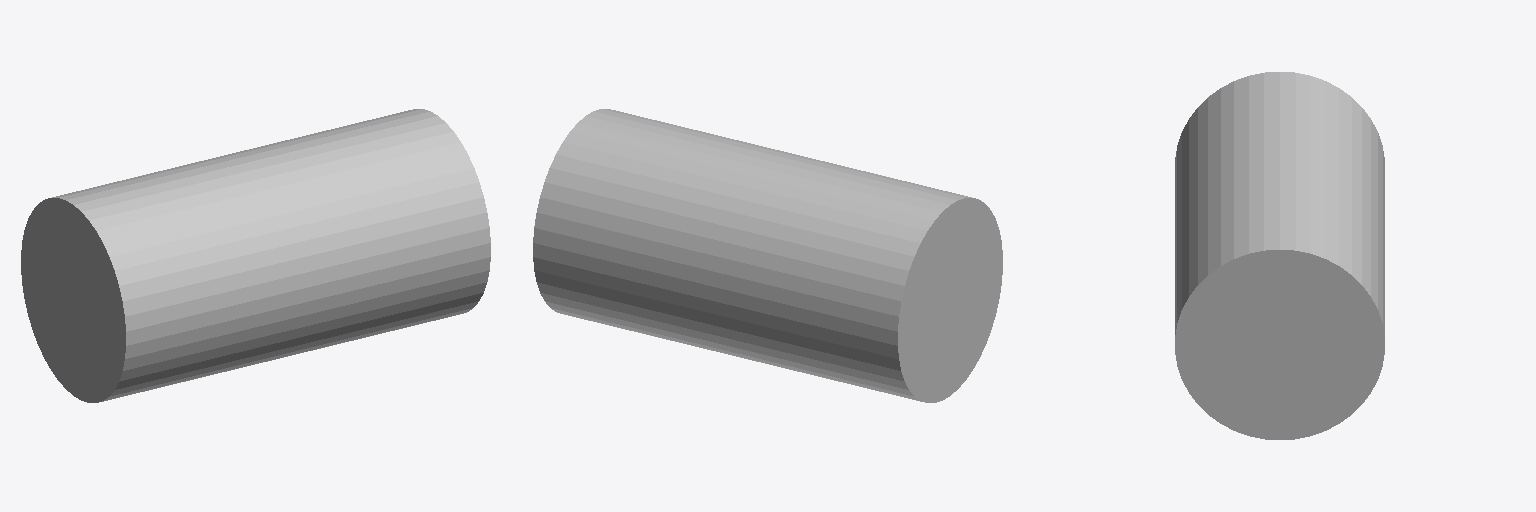
The model's file is Component_Fairing__Rocket.obj.
The picture shows the model from 3 angles: view 1: azimuth 30°, elevation 25°; view 2: azimuth 150°, elevation 25°; view 3: azimuth 270°, elevation 25°; orthographic projection.
Visible parts, largest first — view 1: g_Equipment_Mat; view 2: g_Equipment_Mat; view 3: g_Equipment_Mat.
Part boxes in pixels (bbox=[...]): g_Equipment_Mat: bbox=[21, 109, 490, 402]; g_Equipment_Mat: bbox=[533, 109, 1002, 402]; g_Equipment_Mat: bbox=[1175, 72, 1384, 439].
Size of the model in its own units: 4.3 by 2.15 by 2.14.